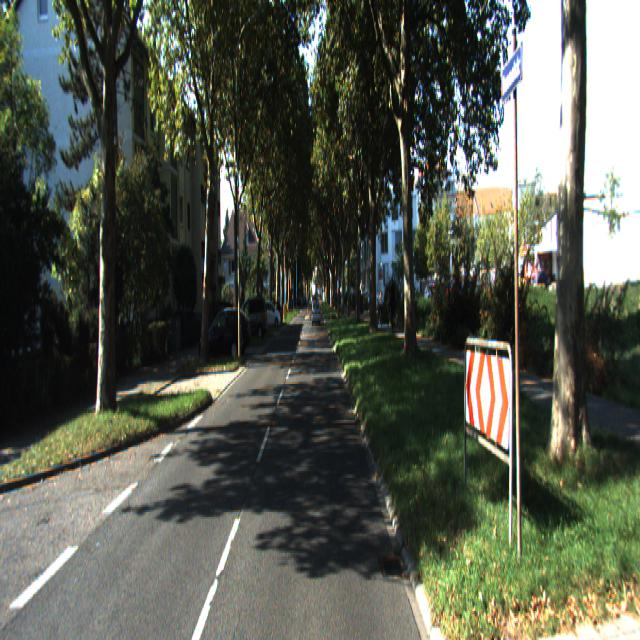Car: (200, 304, 246, 360)
